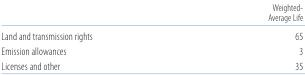table: (0, 1, 302, 71)
table column: (0, 1, 179, 71), (179, 1, 302, 71)
table column header: (0, 1, 302, 26)
table row: (0, 1, 302, 26), (0, 26, 302, 43), (0, 43, 302, 58), (0, 58, 302, 71)
